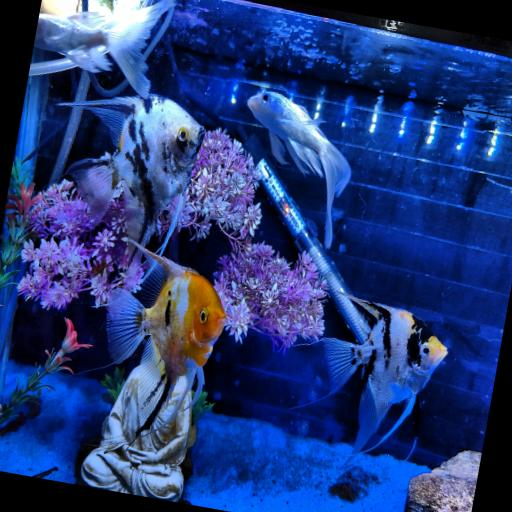Fish: (58, 94, 204, 253), (106, 243, 225, 415), (319, 297, 446, 453), (106, 241, 225, 379), (247, 91, 350, 248), (34, 0, 173, 98)
